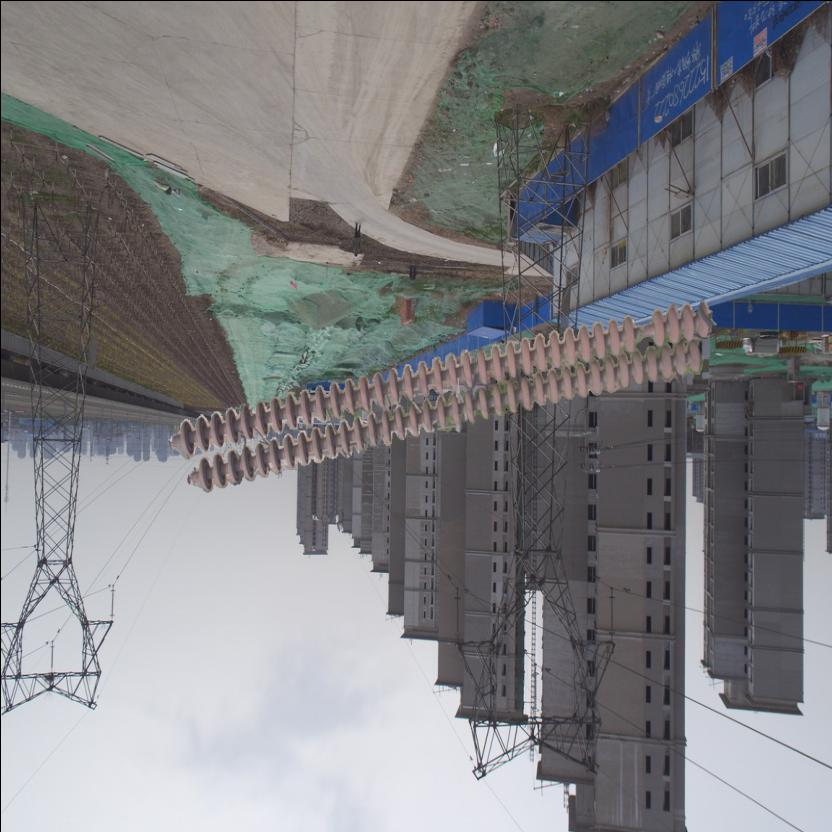defect: (618, 311, 668, 358)
